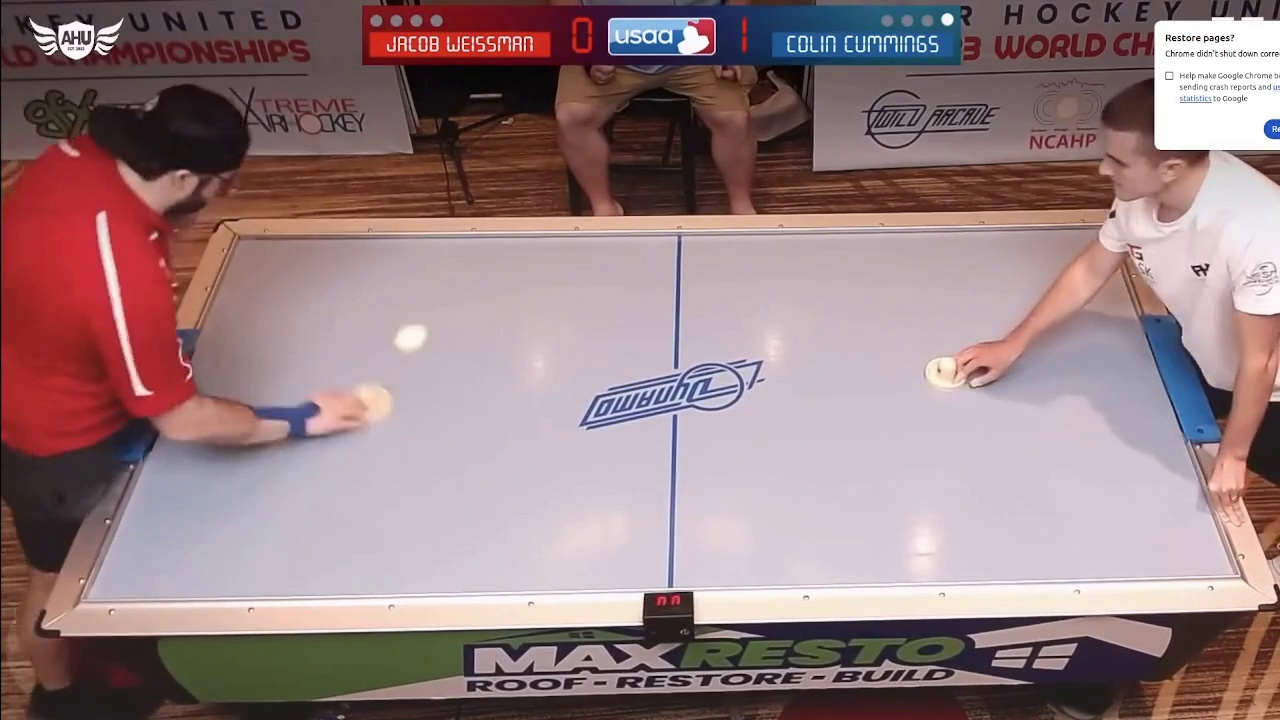player: (347, 383, 392, 421), (922, 355, 973, 388)
puck: (393, 323, 430, 354)
table: (71, 221, 1259, 604)
